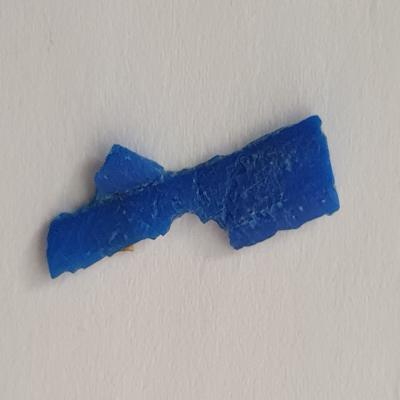plastic: (41, 112, 342, 283)
